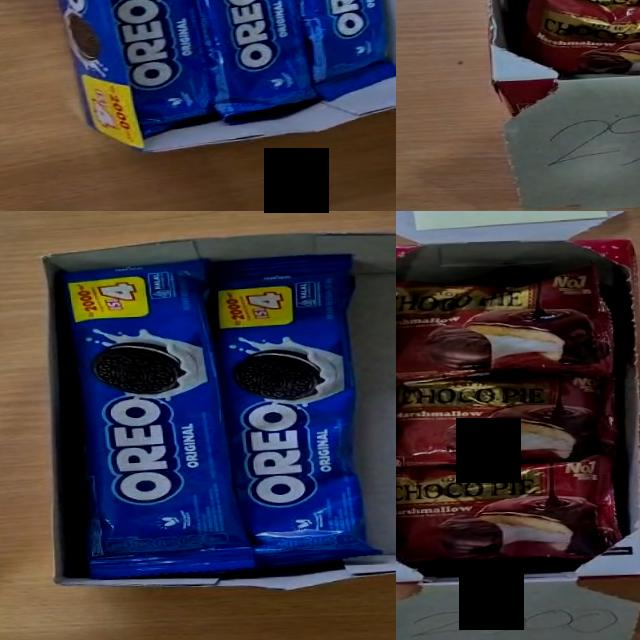Chocopie: (396, 263, 617, 382), (396, 453, 624, 564), (396, 371, 619, 469), (517, 0, 640, 78)
Oreo: (56, 256, 256, 580), (205, 252, 382, 569), (151, 0, 315, 125), (71, 0, 215, 137), (266, 0, 396, 100)
